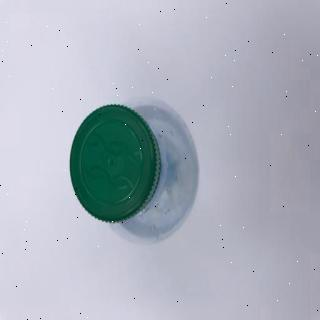Plastic-bottle: (67, 99, 207, 250)
